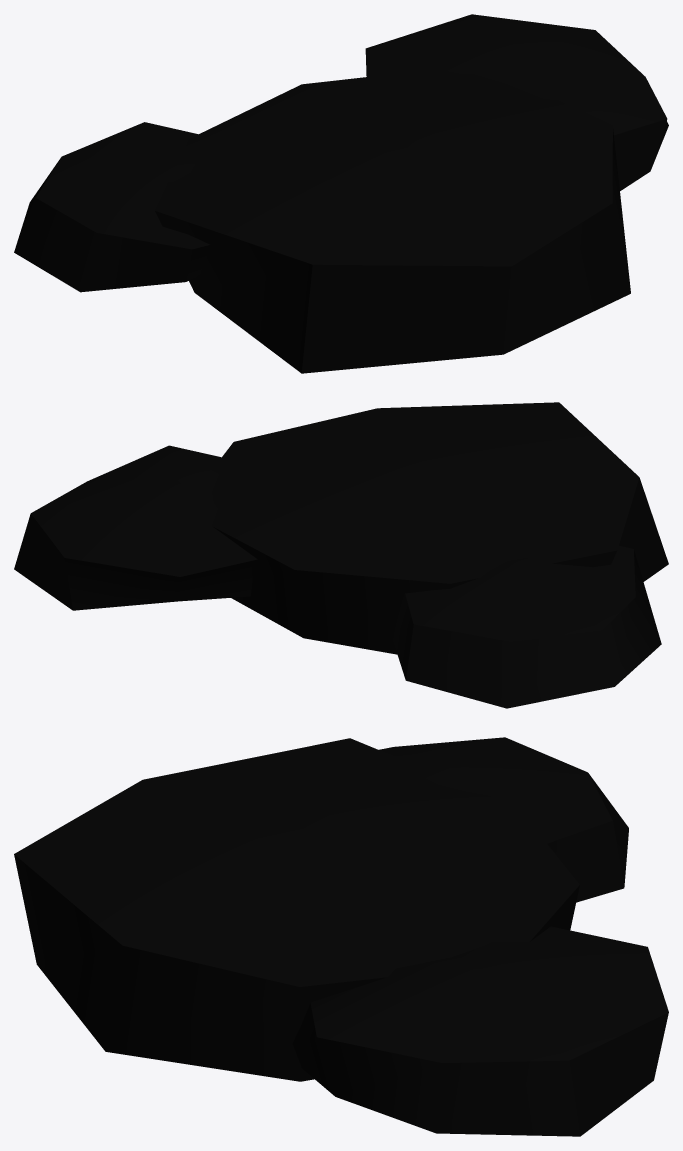
Rendered from SM_leaf_pile.fbx.
The picture shows the model from 3 angles, top to bottom: view 1: azimuth 30°, elevation 25°; view 2: azimuth 150°, elevation 25°; view 3: azimuth 270°, elevation 25°; orthographic projection. The views are drawn at different scales.
Visible parts, largest first — view 1: leaf_pile; view 2: leaf_pile; view 3: leaf_pile.
Boxes of the visible parts, left/top/right/bottom form: leaf_pile: left=14, top=14, right=668, bottom=373; leaf_pile: left=14, top=402, right=668, bottom=708; leaf_pile: left=14, top=737, right=668, bottom=1136.
Bounding box in the file's own units: 1.61 × 0.4333 × 1.29.
